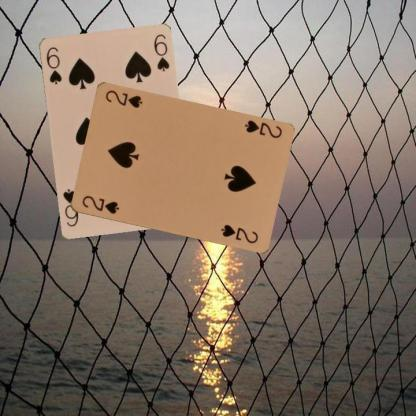2s: (242, 117, 283, 140), (79, 193, 120, 215)
6s: (43, 44, 63, 85)
